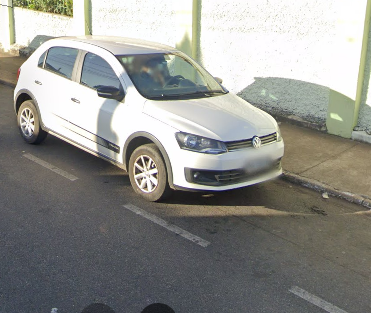car: (10, 18, 290, 207)
